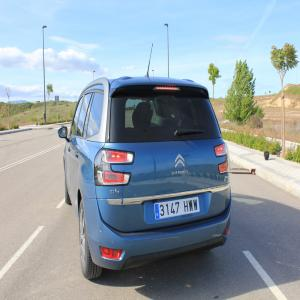Vehicle-registration-plate: (155, 198, 201, 219)
